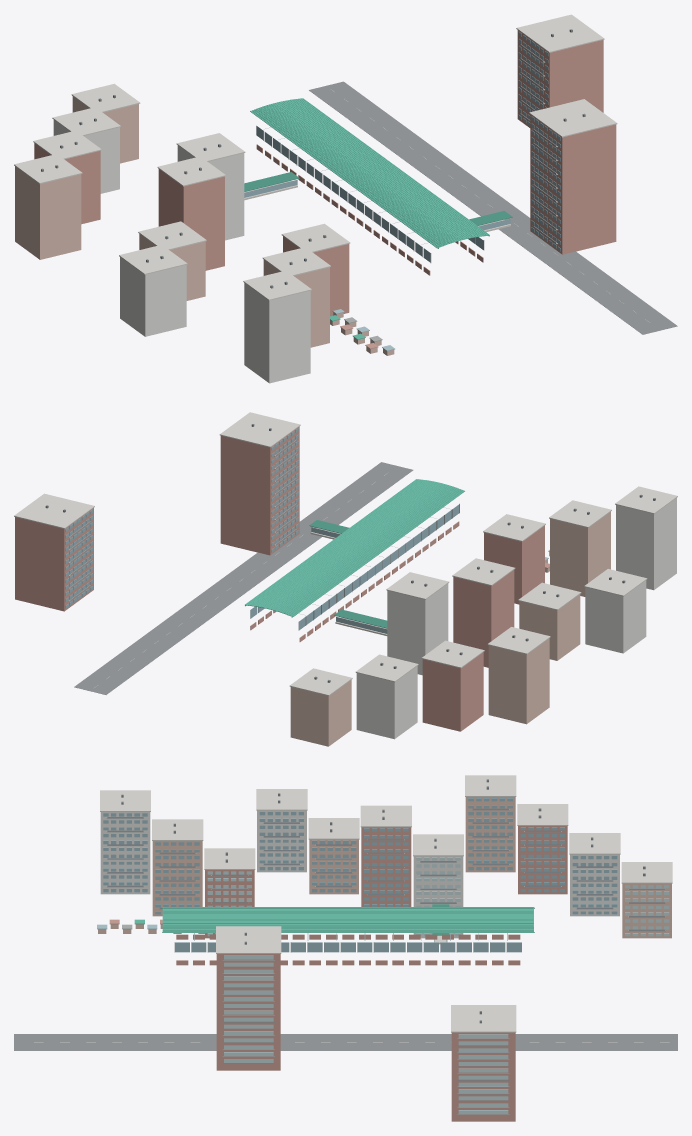
3 views of the same model, one above another, from view 1: azimuth 30°, elevation 25°; view 2: azimuth 150°, elevation 25°; view 3: azimuth 270°, elevation 25° (orthographic). The views are drawn at different scales.
Visible parts, largest first — view 1: Station 11 photo-informed architecture and surroundings; view 2: Station 11 photo-informed architecture and surroundings; view 3: Station 11 photo-informed architecture and surroundings.
Part boxes in pixels (x1,y1,x2,y2): Station 11 photo-informed architecture and surroundings: (14, 14, 677, 383); Station 11 photo-informed architecture and surroundings: (14, 412, 677, 746); Station 11 photo-informed architecture and surroundings: (14, 775, 677, 1121).
Size of the model in its own units: 270 by 55.9 by 280.
